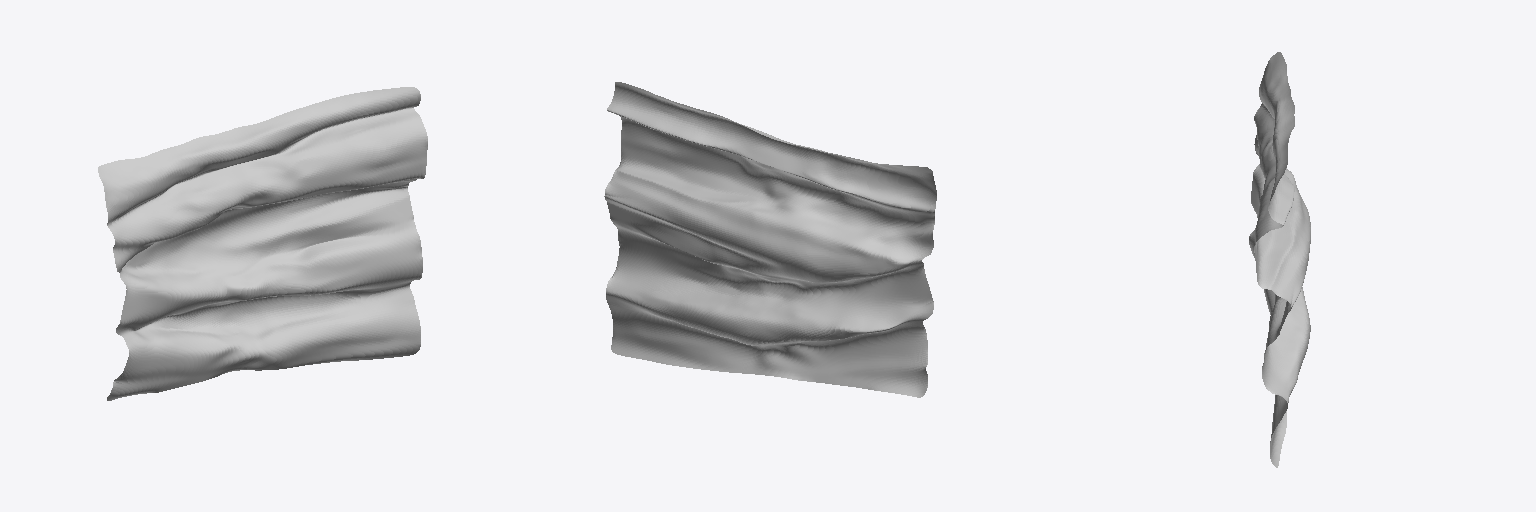
File: SM_Curtain_02_HighPoly_05.OBJ
3 renders of one model, left to right at view 1: azimuth 30°, elevation 25°; view 2: azimuth 150°, elevation 25°; view 3: azimuth 270°, elevation 25°, orthographic.
Visible parts, largest first — view 1: Group41469; view 2: Group41469; view 3: Group41469.
Boxes of the visible parts, x1,y1,x2,y2 form: Group41469: [98, 87, 427, 400]; Group41469: [604, 82, 936, 397]; Group41469: [1249, 52, 1310, 467].
Bounding box in the file's own units: 2.75 × 2.23 × 0.4666.